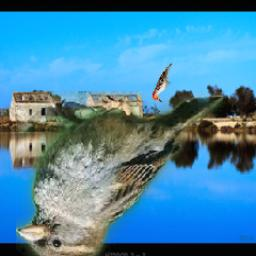Sparrow: (16, 91, 223, 256)
Woodpecker: (153, 60, 173, 102)
